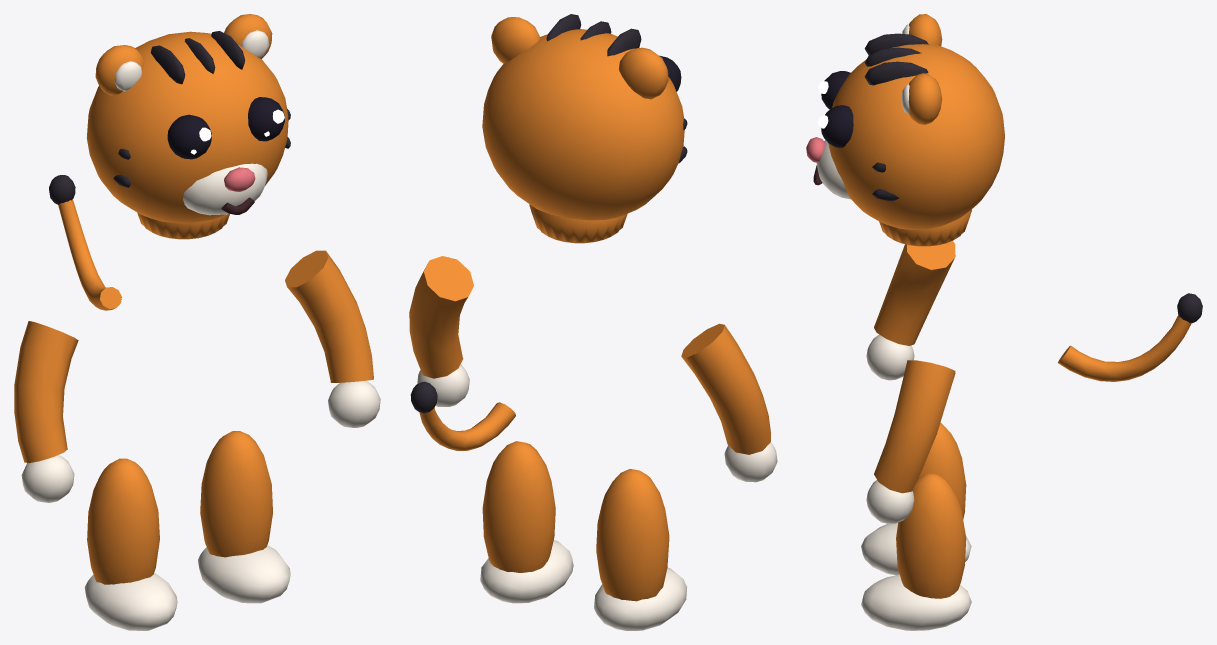
File: tb_dyr_tiger.glb
The picture shows the model from 3 angles, left to right: view 1: azimuth 30°, elevation 25°; view 2: azimuth 150°, elevation 25°; view 3: azimuth 270°, elevation 25°; orthographic projection. The views are drawn at different scales.
Visible parts, largest first — view 1: hode, bein_vf, bein_hf, vinge_v, vinge_h, hale; view 2: hode, bein_hf, bein_vf, vinge_v, vinge_h, hale; view 3: hode, bein_hf, vinge_h, vinge_v, hale, bein_vf.
Boxes of the visible parts, box(x1,y1,x2,y2) form: hode: box(86, 14, 290, 239); bein_vf: box(84, 458, 177, 630); bein_hf: box(198, 431, 290, 603); vinge_v: box(14, 321, 78, 502); vinge_h: box(285, 250, 380, 427); hale: box(49, 175, 121, 310); hode: box(482, 14, 687, 243); bein_hf: box(480, 441, 573, 603); bein_vf: box(594, 469, 687, 630); vinge_v: box(681, 323, 777, 482); vinge_h: box(409, 256, 473, 406); hale: box(410, 381, 515, 450); hode: box(806, 14, 1004, 246); bein_hf: box(861, 473, 971, 630); vinge_h: box(866, 360, 955, 524); vinge_v: box(866, 240, 955, 380); hale: box(1058, 293, 1202, 381); bein_vf: box(861, 422, 971, 575).
Bounding box in the file's own units: 1.06 × 1.65 × 1.07.
